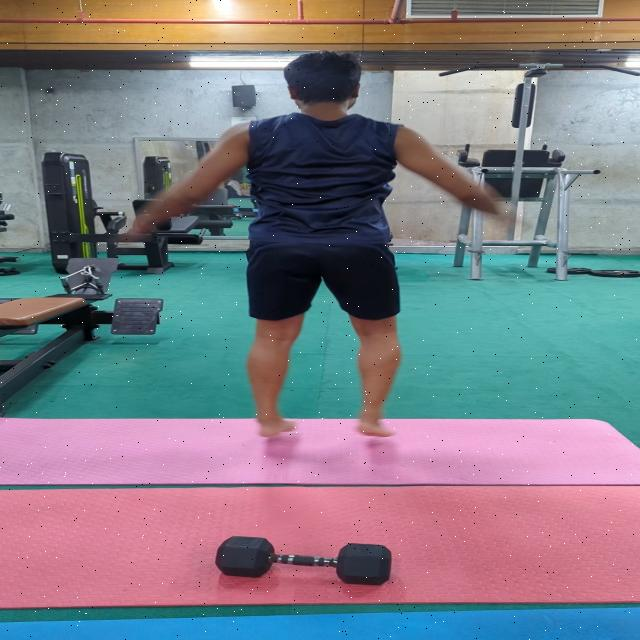Normal_JumpingJacks: (134, 39, 512, 432)
